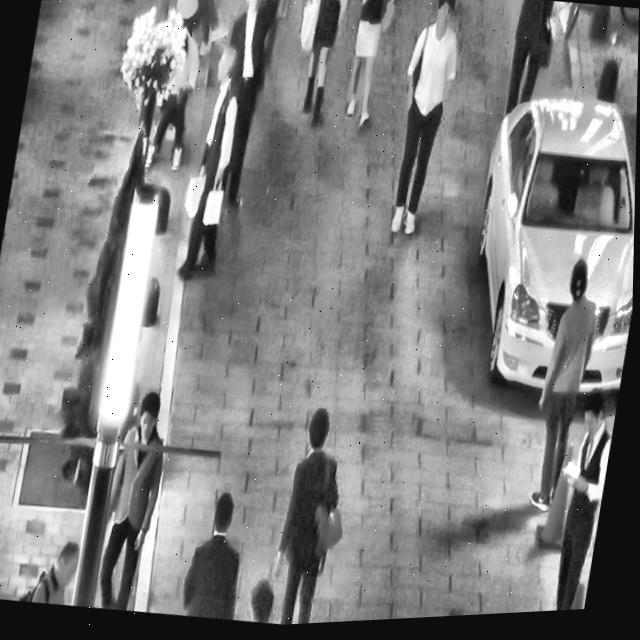light_vehicle: (448, 71, 638, 422)
